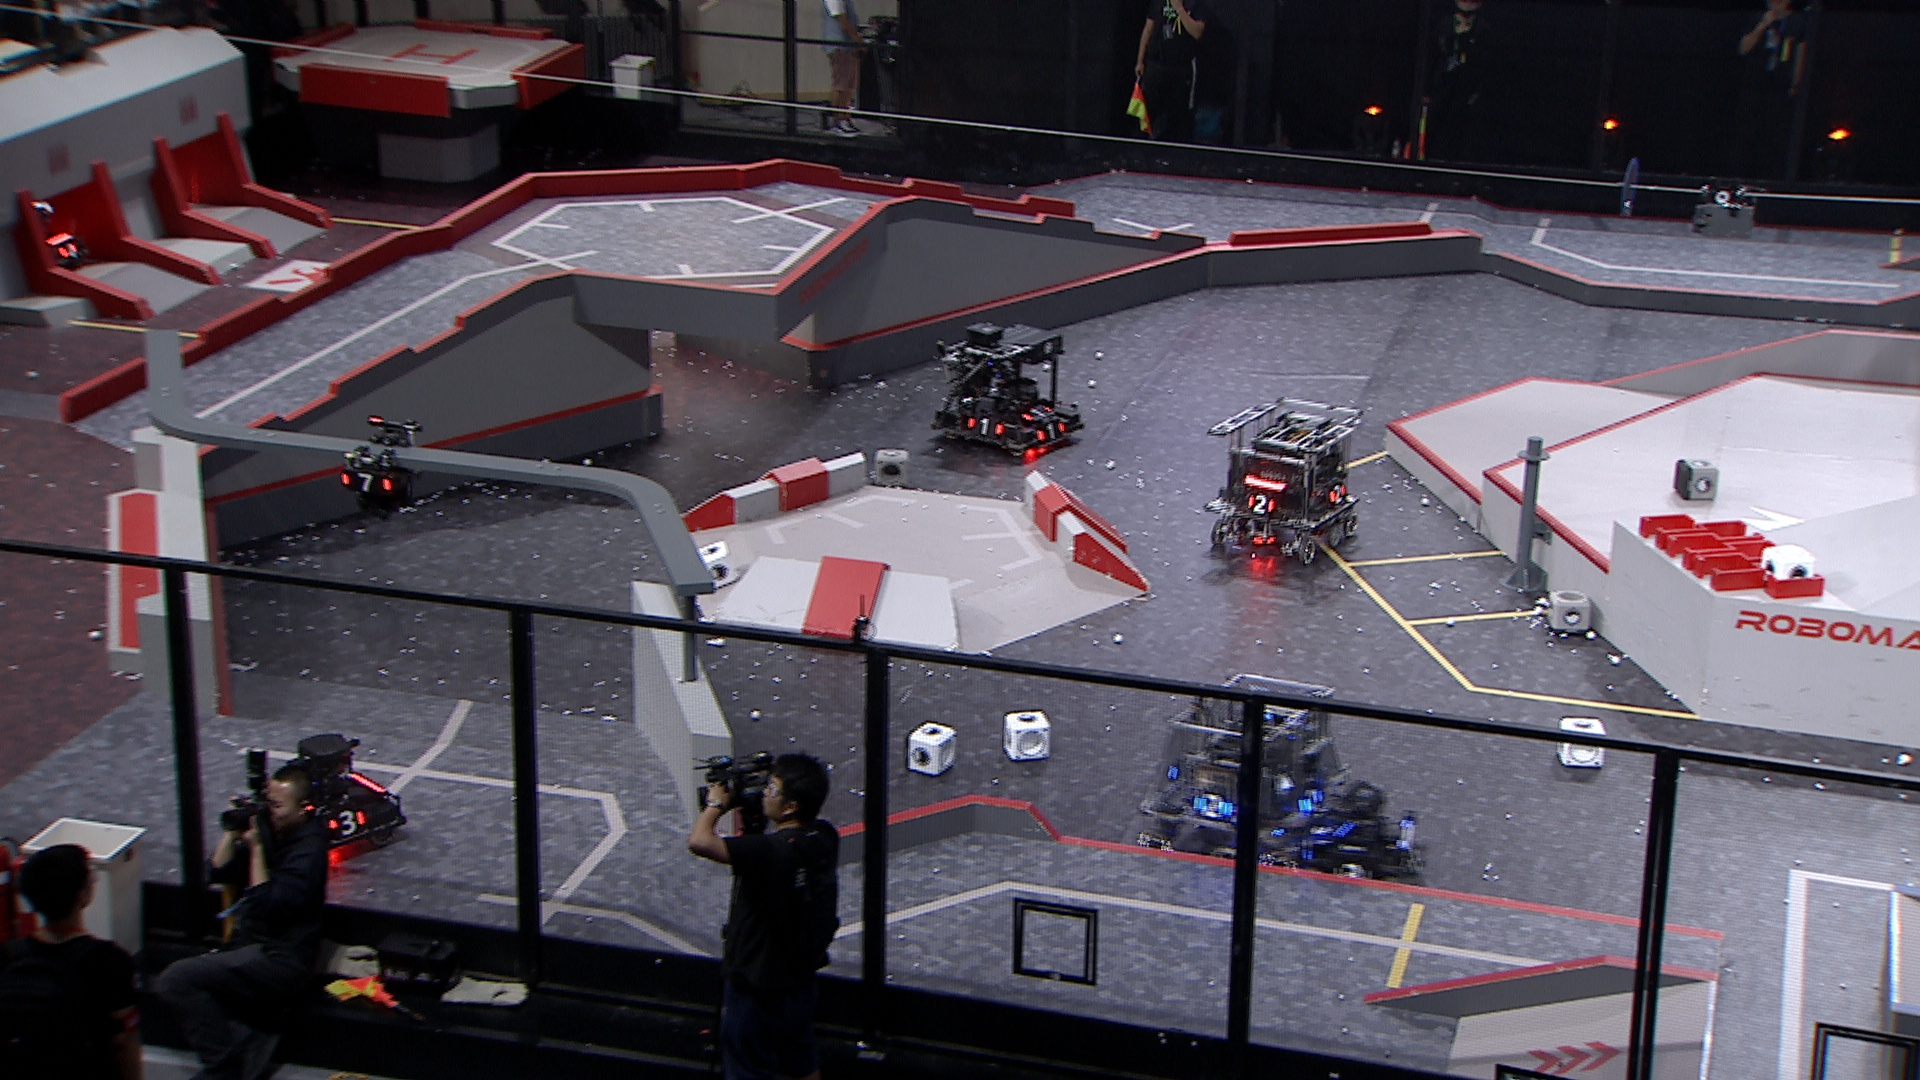armor: (342, 471, 396, 495), (1195, 793, 1236, 823), (327, 807, 368, 836), (965, 415, 1005, 438), (1331, 860, 1375, 880), (1247, 493, 1276, 518), (1036, 419, 1065, 443), (1309, 823, 1335, 849), (1300, 789, 1327, 814), (1021, 404, 1054, 419), (1328, 484, 1348, 506), (57, 243, 79, 262)
car: (1135, 669, 1349, 873), (1207, 396, 1366, 564), (931, 320, 1087, 463), (253, 733, 407, 861), (1294, 785, 1429, 898)
watcher: (340, 417, 425, 520)
